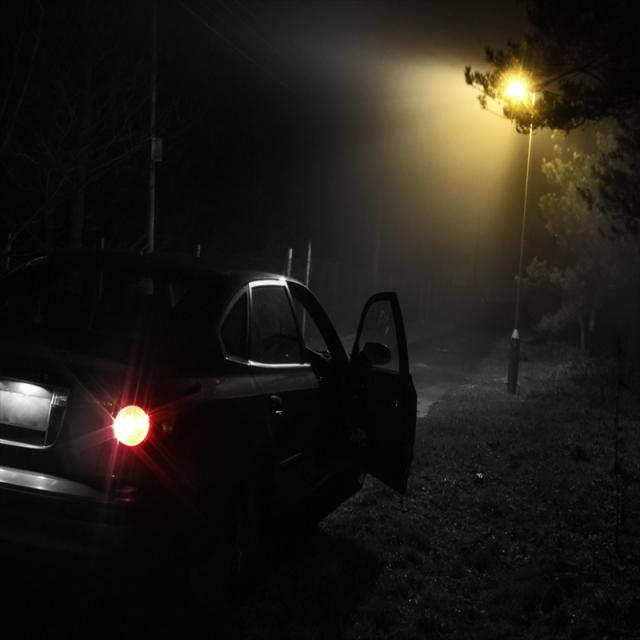Car: (7, 250, 416, 584)
